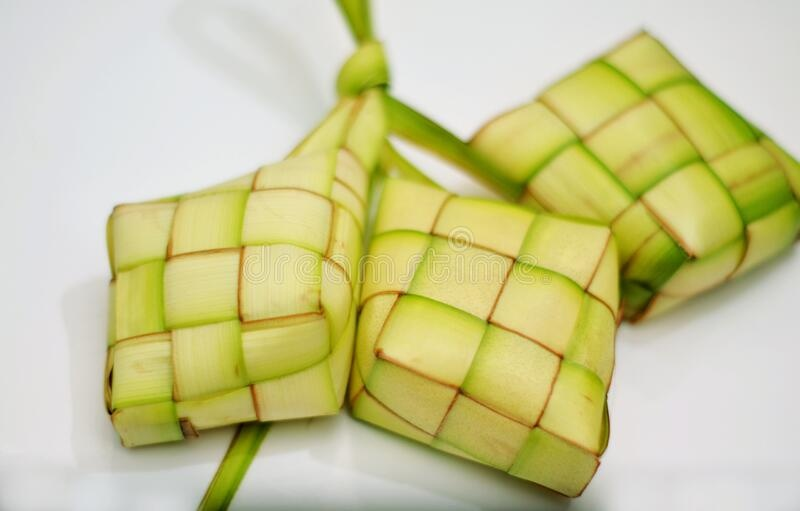ketupat: (465, 27, 800, 325), (362, 177, 623, 498), (103, 146, 373, 444)
